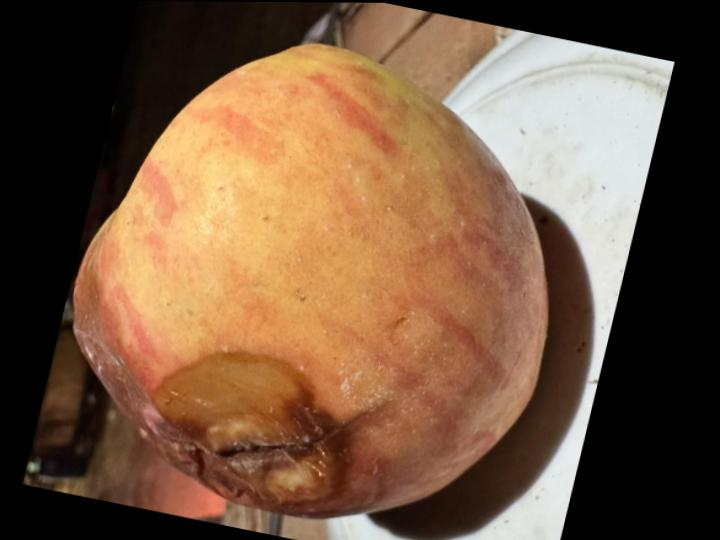apple: (73, 43, 547, 517)
rot_mold_decay: (73, 263, 356, 517)
